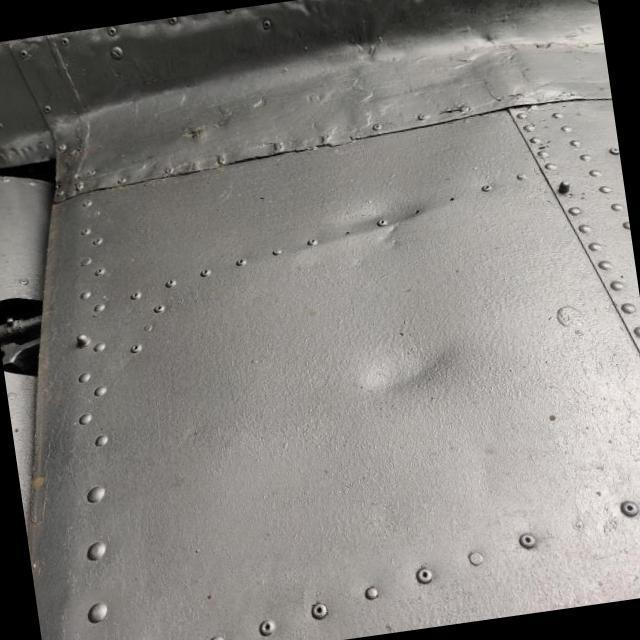Dent: (335, 299, 480, 436), (302, 157, 439, 284)
